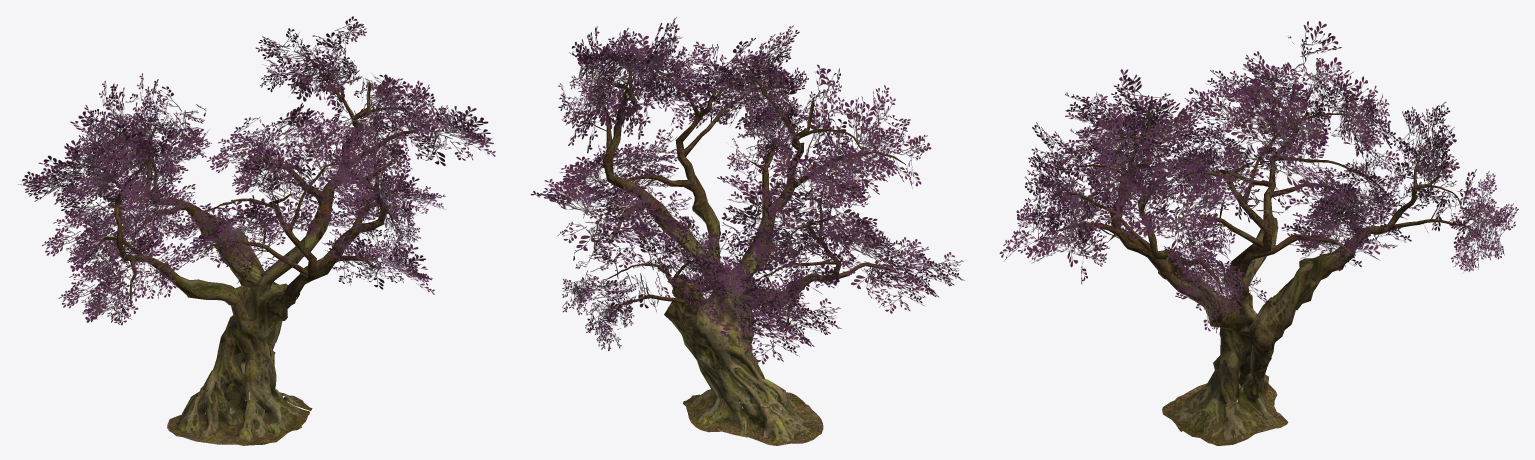
The model's file is tree.glb.
The picture shows the model from 3 angles, left to right: view 1: azimuth 30°, elevation 25°; view 2: azimuth 150°, elevation 25°; view 3: azimuth 270°, elevation 25°; orthographic projection. The views are drawn at different scales.
Parts seen in each view (by area): view 1: trunk, leaves.011, leaves.010, leaves.001, leaves.016, leaves.014, leaves.015, leaves.007, leaves.006, leaves.002, leaves.008, leaves.009 (+10 smaller); view 2: trunk, leaves.015, leaves.001, leaves.007, leaves.010, leaves.003, leaves.006, leaves.002, leaves.011, leaves.016, leaves.014, leaves.012 (+10 smaller); view 3: trunk, leaves.007, leaves.008, leaves.011, leaves.012, leaves.015, leaves.009, leaves.006, leaves.013, leaves.014, leaves.003, leaves.005 (+10 smaller).
Part boxes in pixels (x1,y1,x2,y2): trunk: (165,209,343,445); leaves.011: (232,111,391,233); leaves.010: (164,167,325,283); leaves.001: (64,120,209,229); leaves.016: (58,230,193,325); leaves.014: (323,75,435,186); leaves.015: (18,105,159,219); leaves.007: (255,16,407,134); leaves.006: (206,102,350,194); leaves.002: (42,172,185,271); leaves.008: (366,74,495,165); leaves.009: (321,207,434,294); trunk: (655,193,823,445); leaves.015: (721,155,885,311); leaves.001: (717,126,879,261); leaves.007: (561,17,690,153); leaves.010: (762,85,931,208); leaves.003: (613,212,749,325); leaves.006: (530,173,694,268); leaves.002: (681,263,841,364); leaves.011: (694,54,852,156); leaves.016: (817,218,964,313); leaves.014: (579,33,753,129); leaves.012: (688,25,805,129); trunk: (1158,214,1355,445); leaves.007: (1184,51,1339,222); leaves.008: (1096,146,1266,278); leaves.011: (1044,69,1214,195); leaves.012: (1022,115,1149,247); leaves.015: (1274,21,1400,183); leaves.009: (999,161,1127,284); leaves.006: (1281,182,1411,268); leaves.013: (1163,209,1271,332); leaves.014: (1098,129,1241,204); leaves.003: (1381,101,1479,230); leaves.005: (1431,169,1518,273).
Bounding box in the file's own units: 8.45 × 7.4 × 8.84.
Materials: 3 (3 with a texture image).
